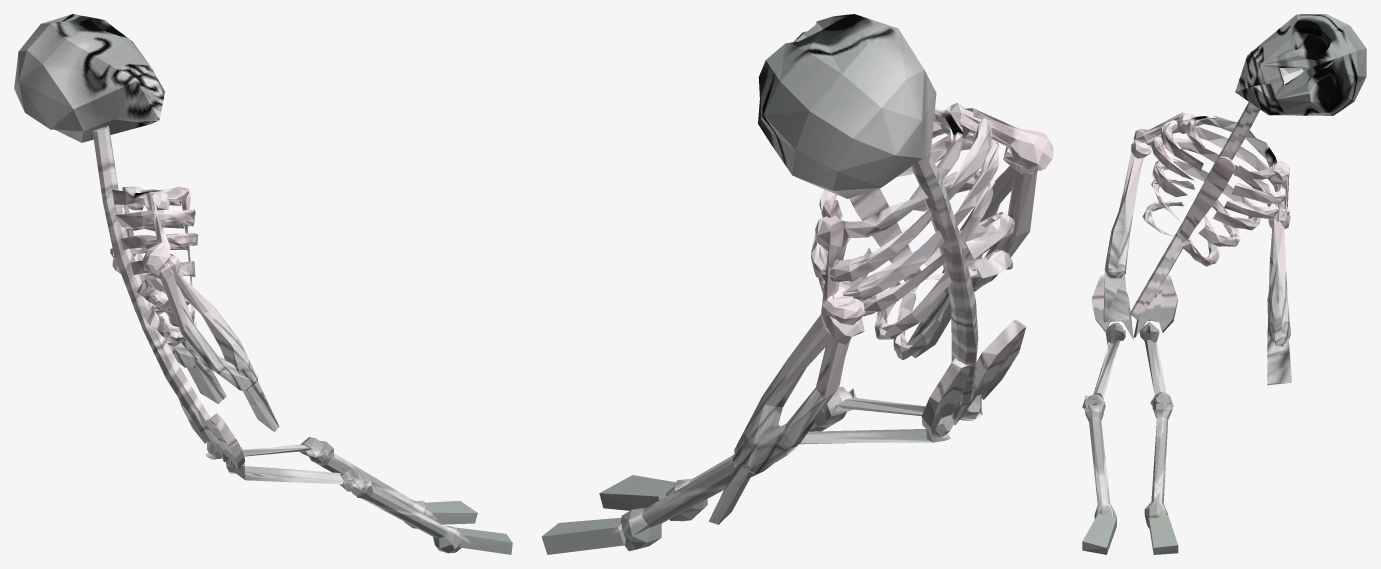
File: JoeSit.glb
3 renders of one model, left to right at view 1: azimuth 30°, elevation 25°; view 2: azimuth 150°, elevation 25°; view 3: azimuth 270°, elevation 25°, orthographic. The views are drawn at different scales.
Parts seen in each view (by area): view 1: JoeSit; view 2: JoeSit; view 3: JoeSit.
Boxes of the visible parts, x1,y1,x2,y2 form: JoeSit: (14, 14, 512, 554); JoeSit: (541, 14, 1053, 554); JoeSit: (1082, 14, 1366, 554).
Bounding box in the file's own units: 151 × 203 × 126.
1 material, 1 textured.
